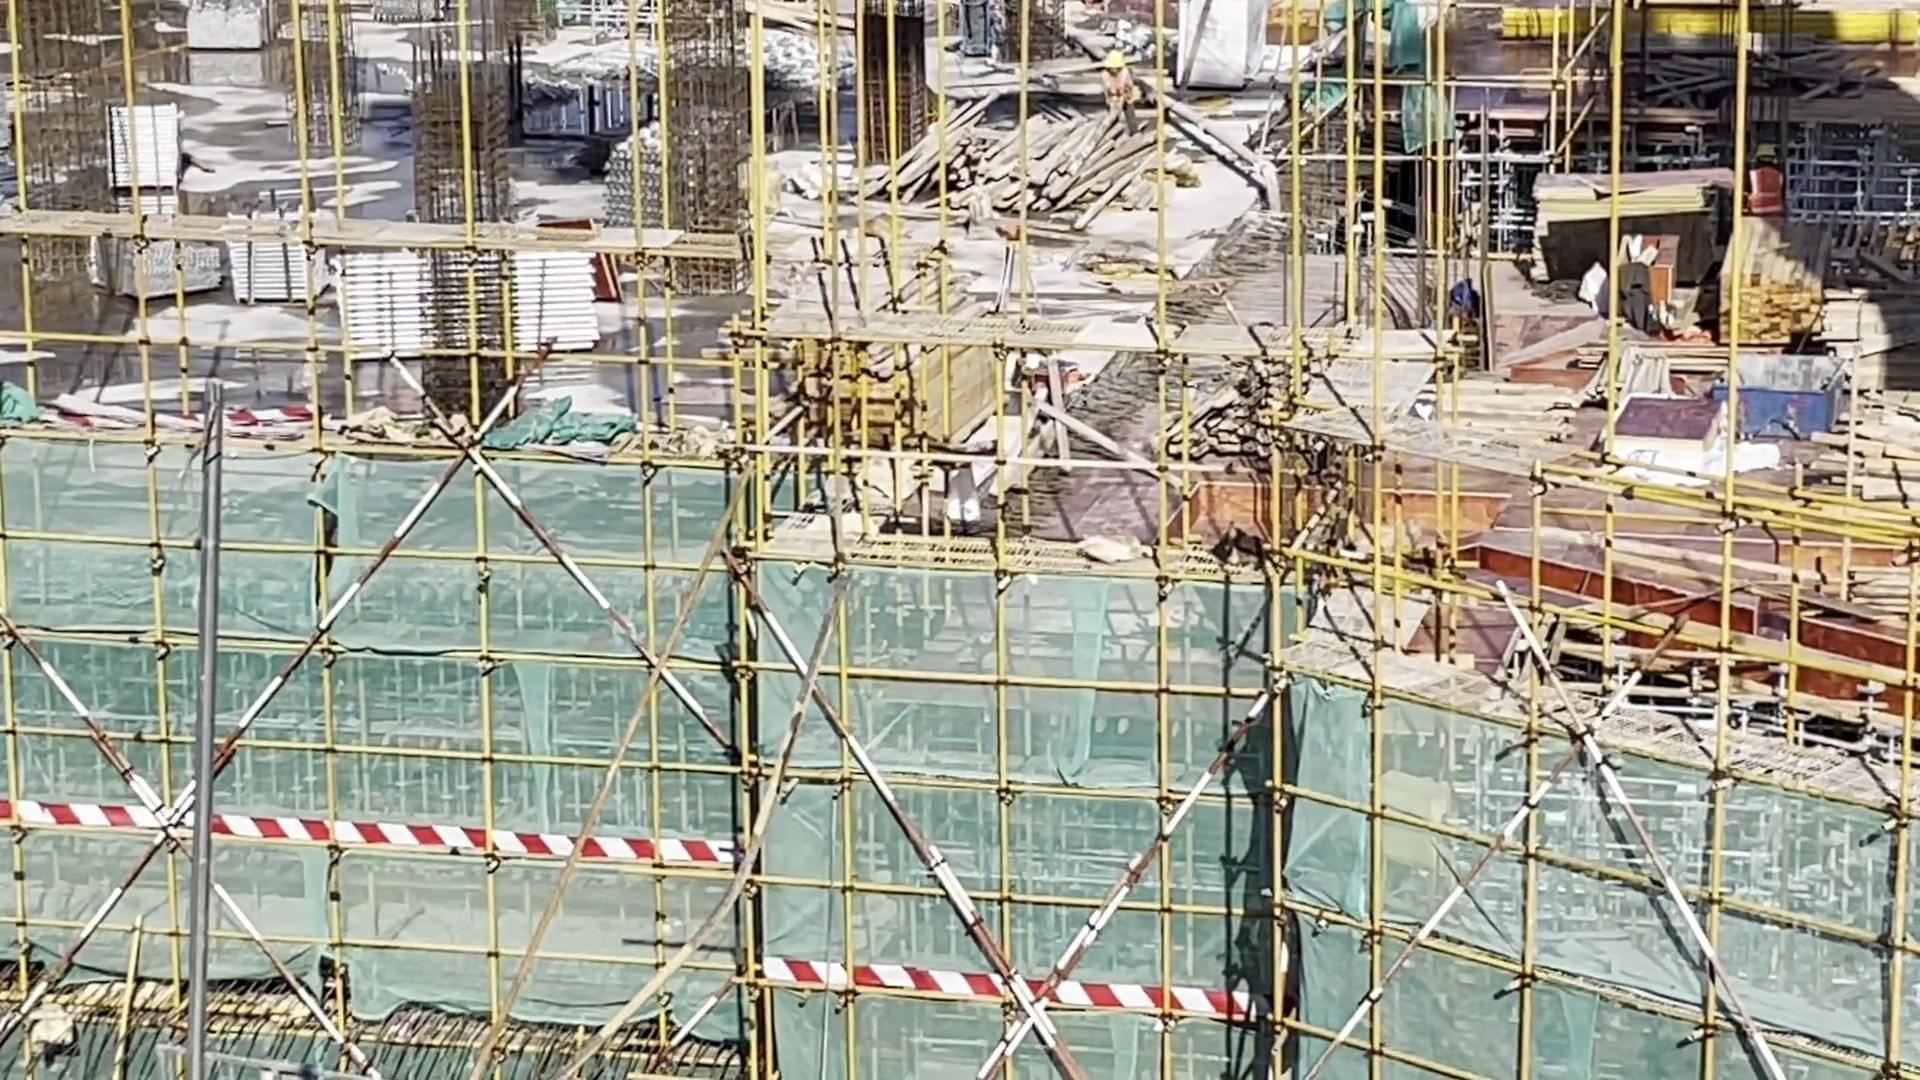helmet: (1094, 50, 1128, 83), (1020, 353, 1038, 379)
hopper: (1714, 372, 1867, 470)
person: (1094, 45, 1149, 136), (1011, 351, 1083, 402)
scaffold: (338, 238, 595, 353), (229, 207, 337, 304)
wood: (877, 105, 1137, 259), (1704, 202, 1855, 382), (769, 330, 995, 448)
